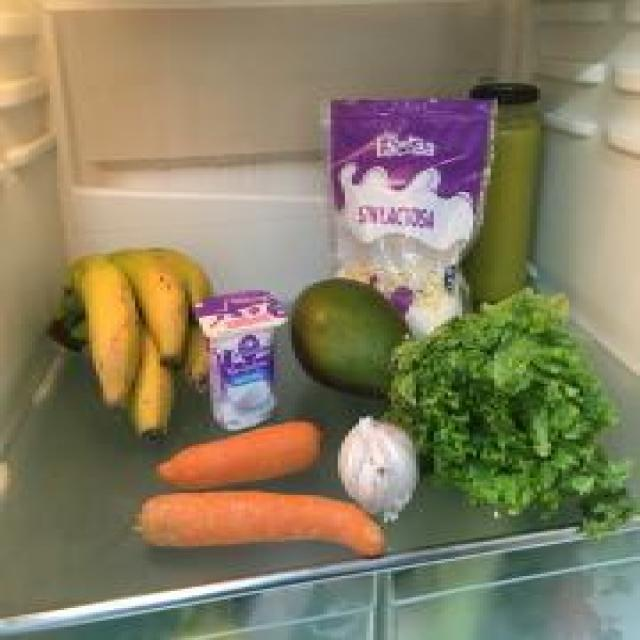banana: (57, 252, 142, 416), (103, 244, 196, 374)
carrot: (134, 486, 396, 559), (153, 416, 323, 486)
garlic: (332, 410, 428, 527)
grated_cheese: (318, 91, 492, 319)
mango: (290, 271, 418, 412)
salad: (411, 282, 613, 524)
yogurt: (192, 293, 288, 430)
